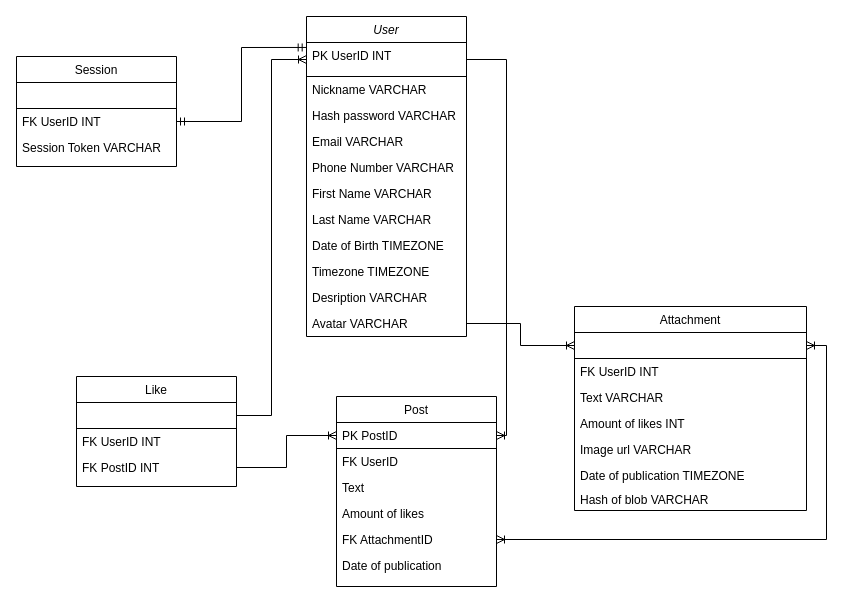
Image size: 843x603. Some labels were removed from this diagram. The shapes that lost their labels are listed below. From the top down, each one's centre as x and y in pixels, then its label:
At (96,95): "PK SessionID INT".
At (690,345): "PK AttachmentID INT".
At (156,415): "PK LikeID INT".
